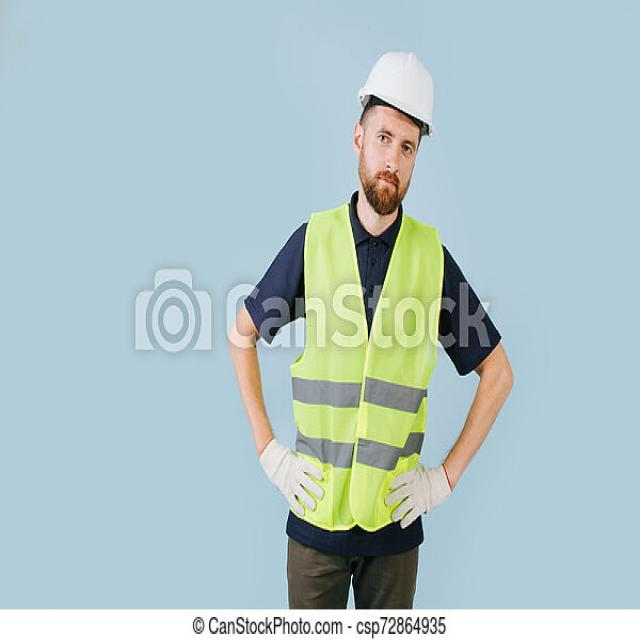helmet: (363, 51, 436, 134)
no-goggles: (352, 124, 422, 163)
vest: (296, 201, 426, 527)
